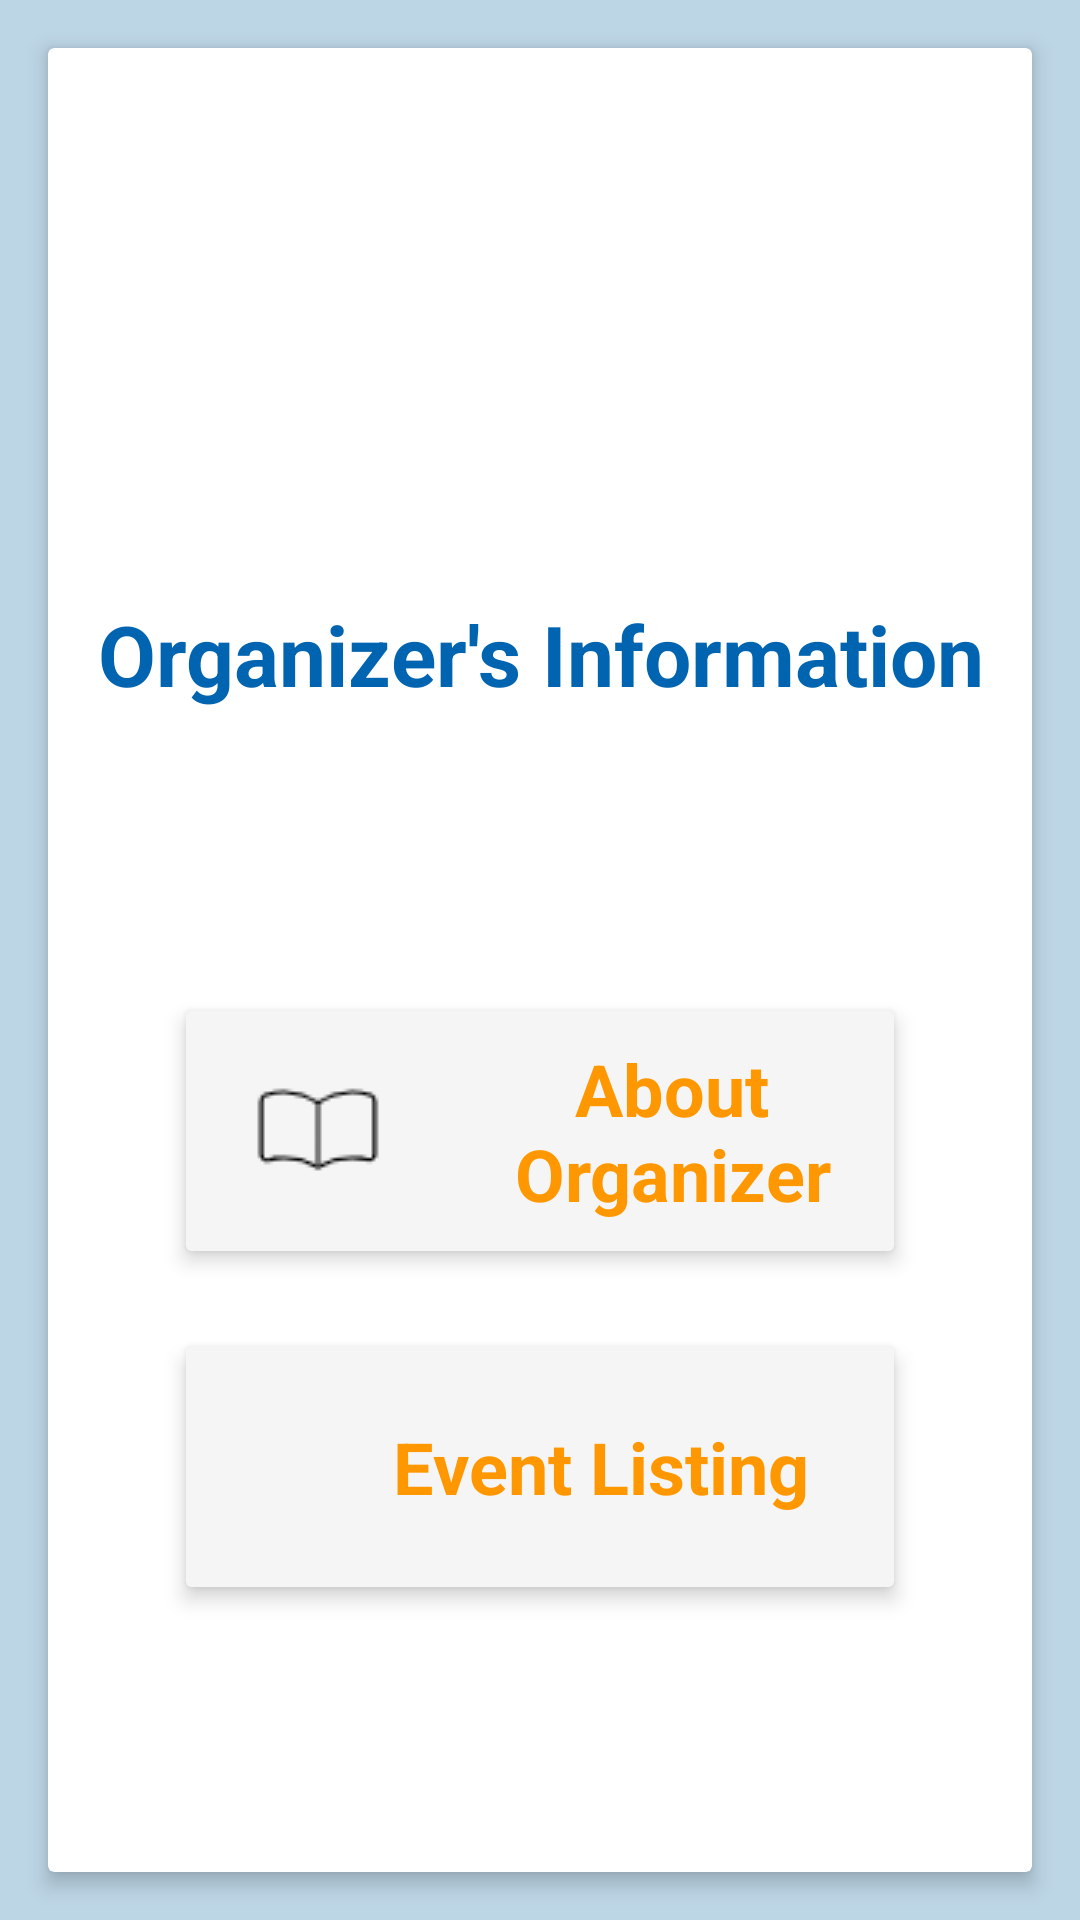

Screen size 1080w x 1920h. Icon name, then its box in pixels as region(x1, y1, x2, y2):
import contacts opsznan: region(257, 1088, 379, 1171)
